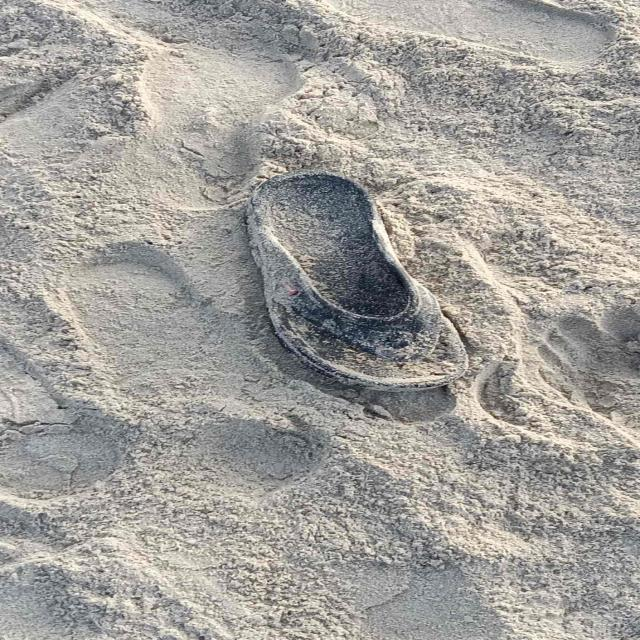other: (245, 171, 468, 391)
